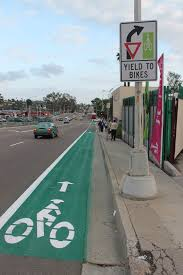yield_sign: (119, 22, 158, 82)
